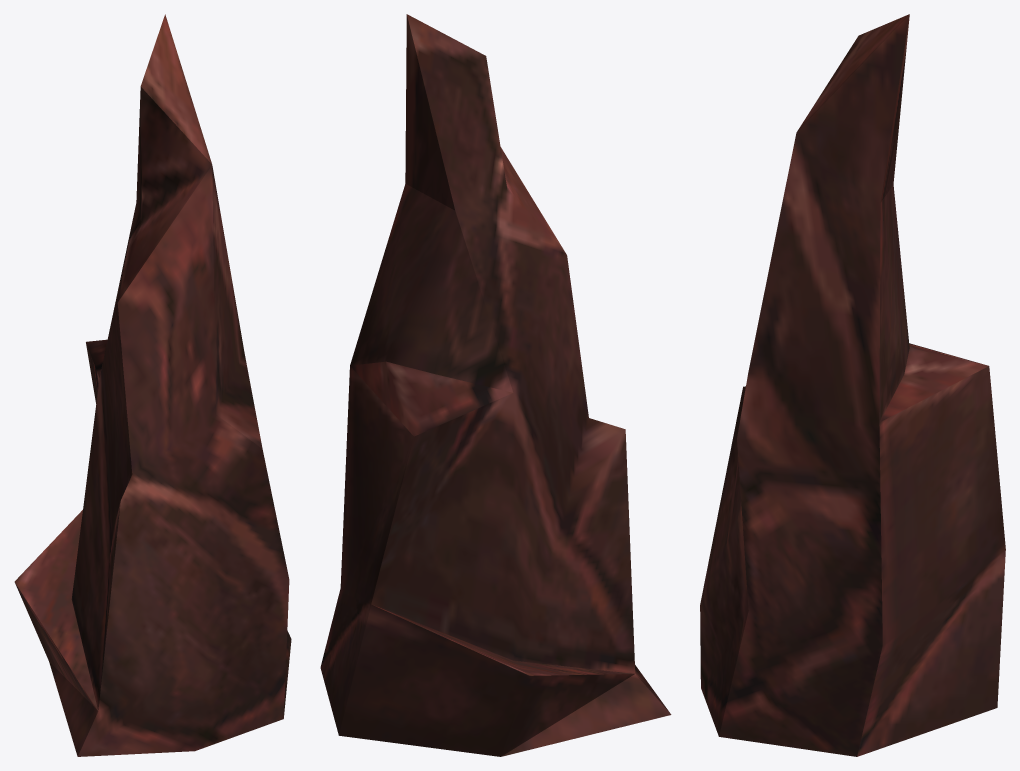
File: stalacmite_tall02.fbx
The picture shows the model from 3 angles, left to right: view 1: azimuth 30°, elevation 25°; view 2: azimuth 150°, elevation 25°; view 3: azimuth 270°, elevation 25°; orthographic projection. The views are drawn at different scales.
Parts seen in each view (by area): view 1: 09_-_Default; view 2: 09_-_Default; view 3: 09_-_Default.
Part boxes in pixels (x1,y1,x2,y2): 09_-_Default: (14,14,291,756); 09_-_Default: (320,14,671,756); 09_-_Default: (700,14,1005,756).
Size of the model in its own units: 1.65 by 3.86 by 1.51.
